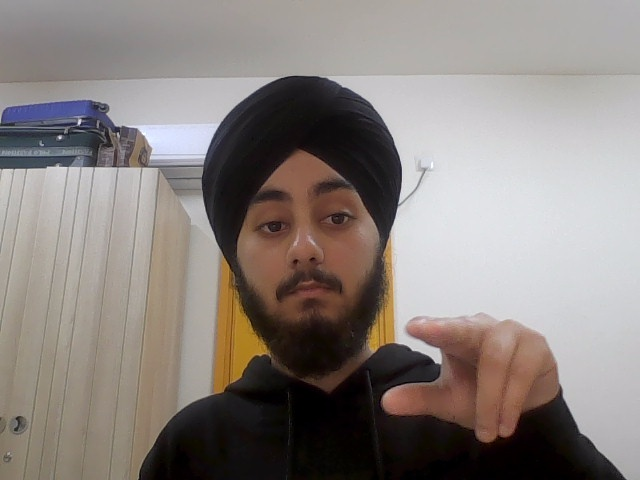No: (381, 311, 570, 443)
